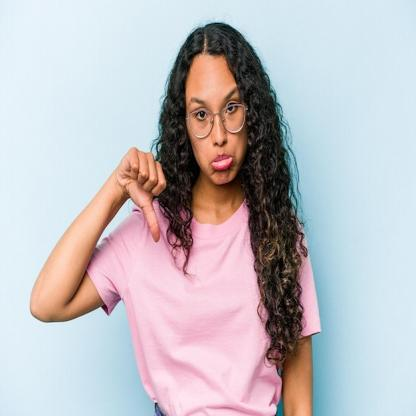thumb_down: (113, 140, 168, 248)
